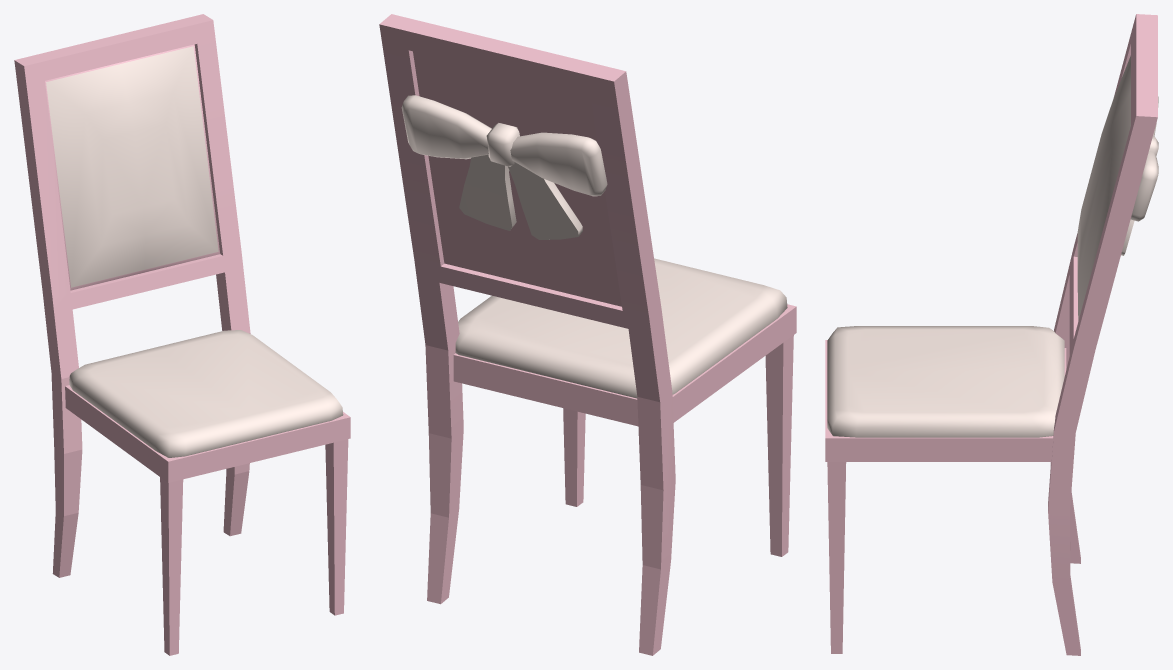
The model's file is Chair_K.fbx.
3 views of the same model, side by side, from view 1: azimuth 30°, elevation 25°; view 2: azimuth 150°, elevation 25°; view 3: azimuth 270°, elevation 25° (orthographic). The views are drawn at different scales.
Visible parts, largest first — view 1: polySurface24, polySurface17; view 2: polySurface17, polySurface24, polySurface9.002; view 3: polySurface24, polySurface17, polySurface9.002.
Boxes of the visible parts, x1=… form: polySurface24: x1=46, y1=46, x2=343, y2=457; polySurface17: x1=14, y1=14, x2=350, y2=655; polySurface17: x1=379, y1=14, x2=796, y2=655; polySurface24: x1=455, y1=258, x2=787, y2=398; polySurface9.002: x1=401, y1=95, x2=607, y2=239; polySurface24: x1=827, y1=55, x2=1130, y2=437; polySurface17: x1=825, y1=14, x2=1157, y2=655; polySurface9.002: x1=1121, y1=96, x2=1158, y2=255.
Bounding box in the file's own units: 40 × 99.11 × 55.28.
